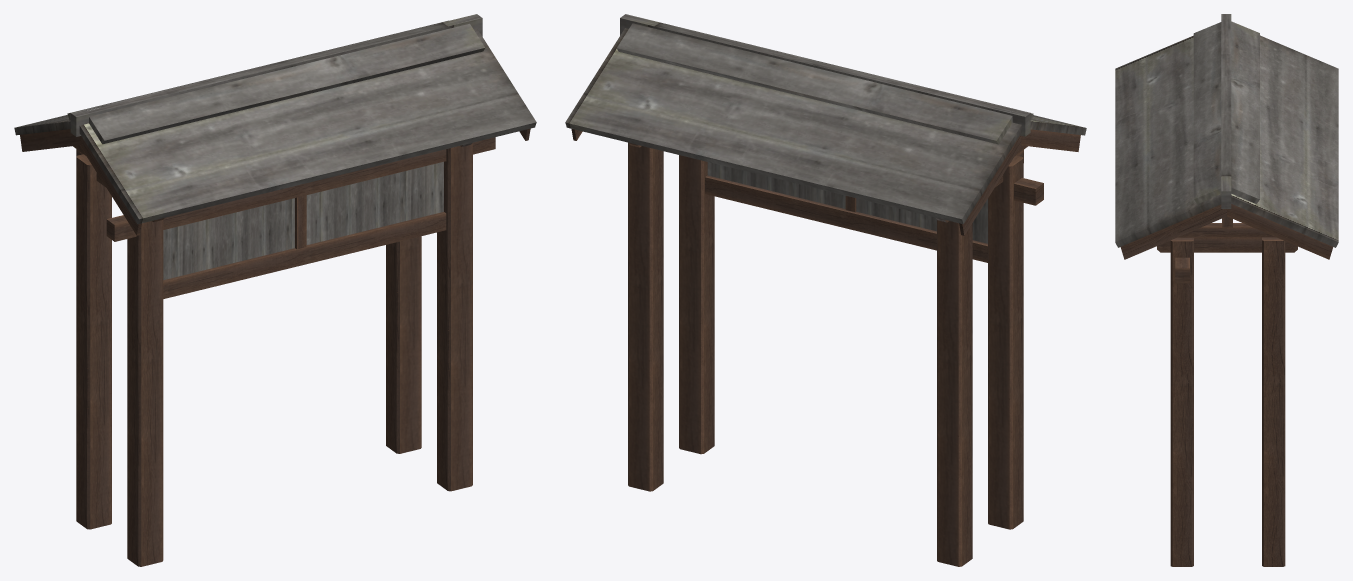
Rendered from jov_entrancegate03.fbx.
3 views of the same model, side by side, from view 1: azimuth 30°, elevation 25°; view 2: azimuth 150°, elevation 25°; view 3: azimuth 270°, elevation 25° (orthographic). The views are drawn at different scales.
Visible parts, largest first — view 1: jov_entrancegate03; view 2: jov_entrancegate03; view 3: jov_entrancegate03.
Boxes of the visible parts, left/top/right/bottom form: jov_entrancegate03: left=14, top=14, right=536, bottom=566; jov_entrancegate03: left=565, top=14, right=1086, bottom=566; jov_entrancegate03: left=1115, top=14, right=1338, bottom=566.
Bounding box in the file's own units: 403 × 415 × 215.
